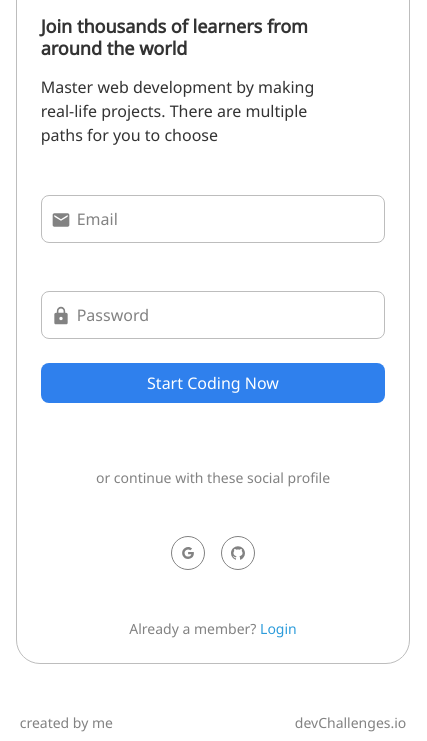
Login Page Rendering › Redirect from sign up page
The width and height of the screenshot is (427, 741).
(page scrolled)
Check: the text "Register" is not shown
Step 1. Click the link "Login" → (278, 629), box top-left (260, 619), bottom-right (297, 638)
(page scrolled)
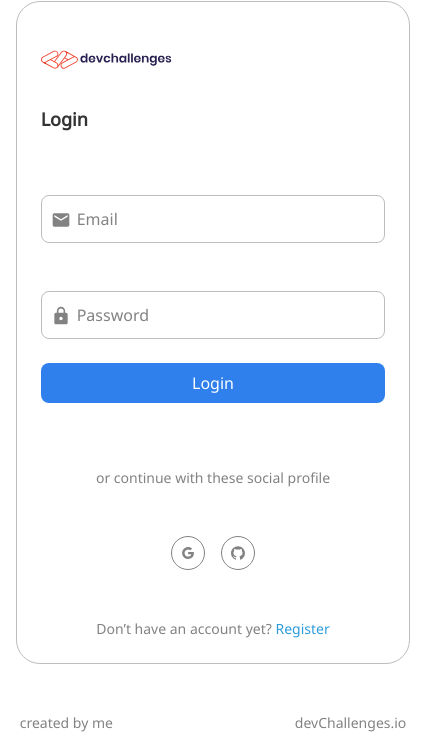
Check: the link "Register" is shown, box top-left (276, 619), bottom-right (330, 638)
